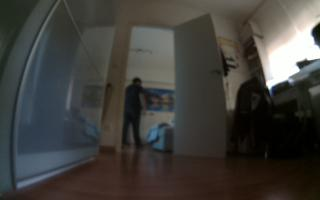person: (120, 73, 149, 153)
